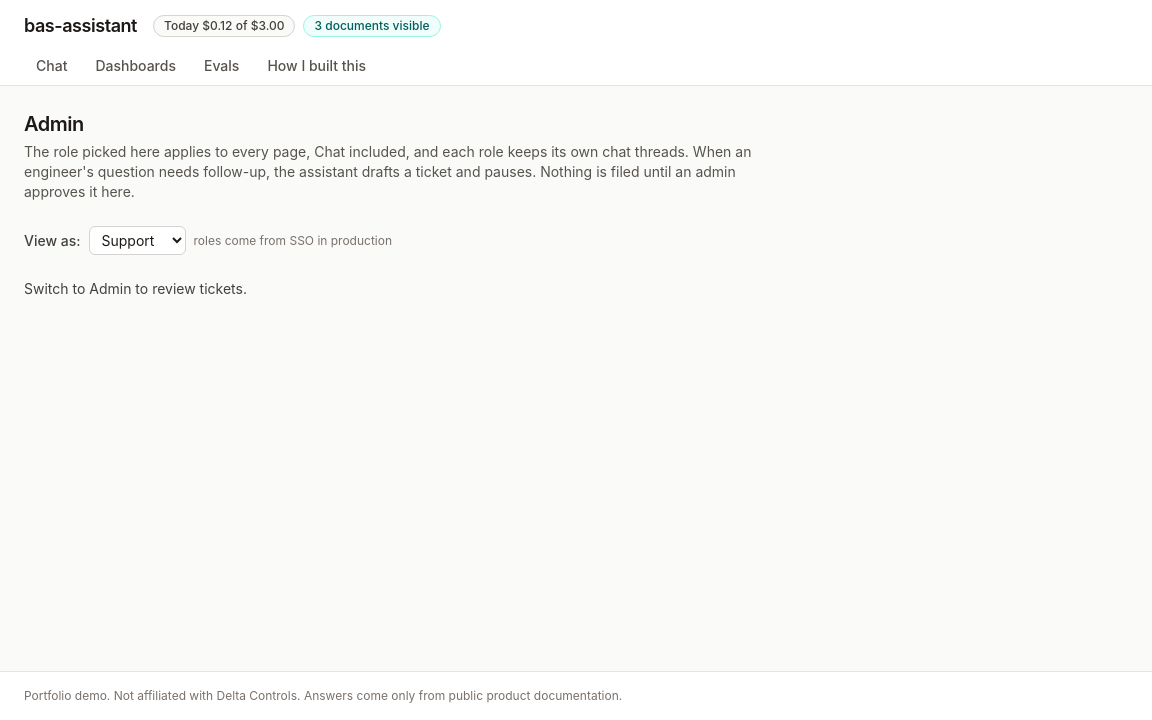
Test: a rejected token is cleared and the admin is asked again
The image size is (1152, 720).
Select "Admin" in the dropdown labelled "View as:" at (137, 240), box [88,226,186,255]
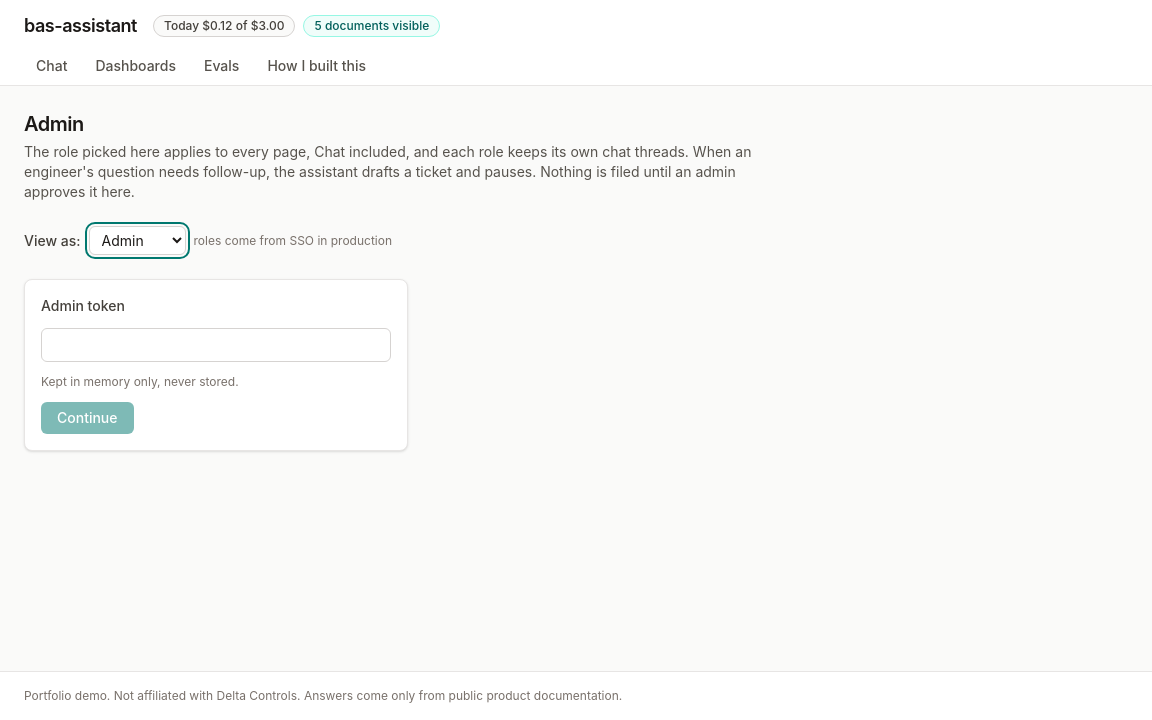
Type "wrong-token" into the password field labelled "Admin token" at (216, 345), box [41,328,391,362]
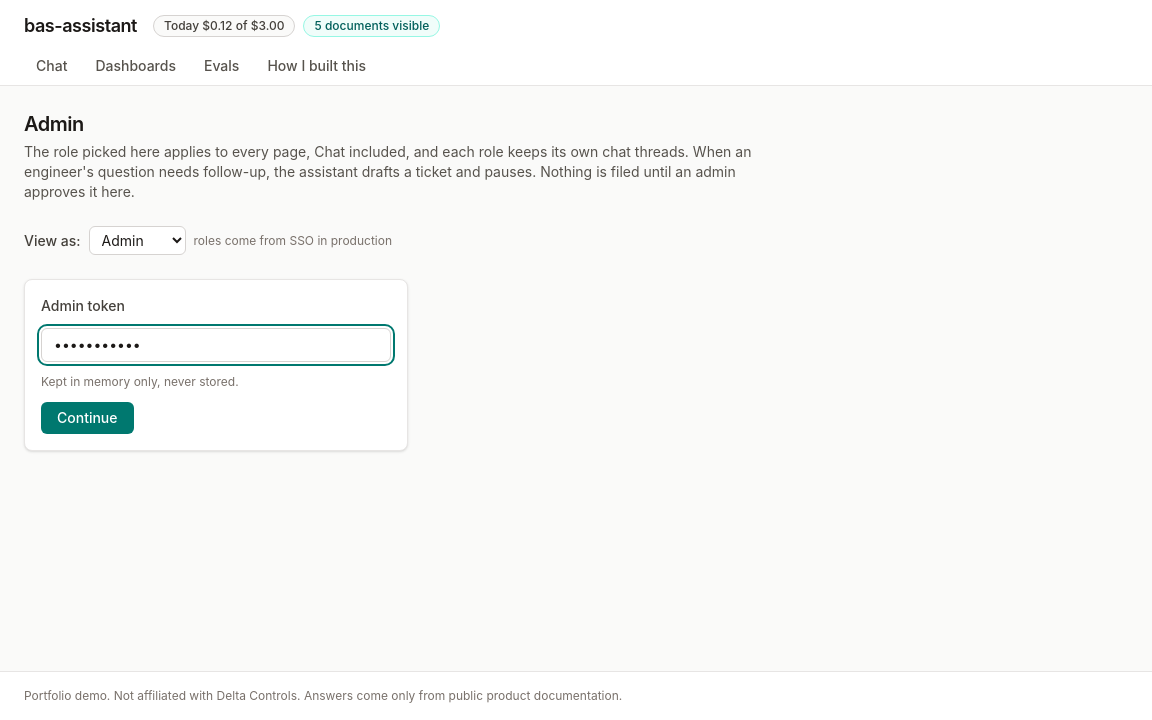
Click the button "Continue" at (87, 418), box [41,402,134,434]
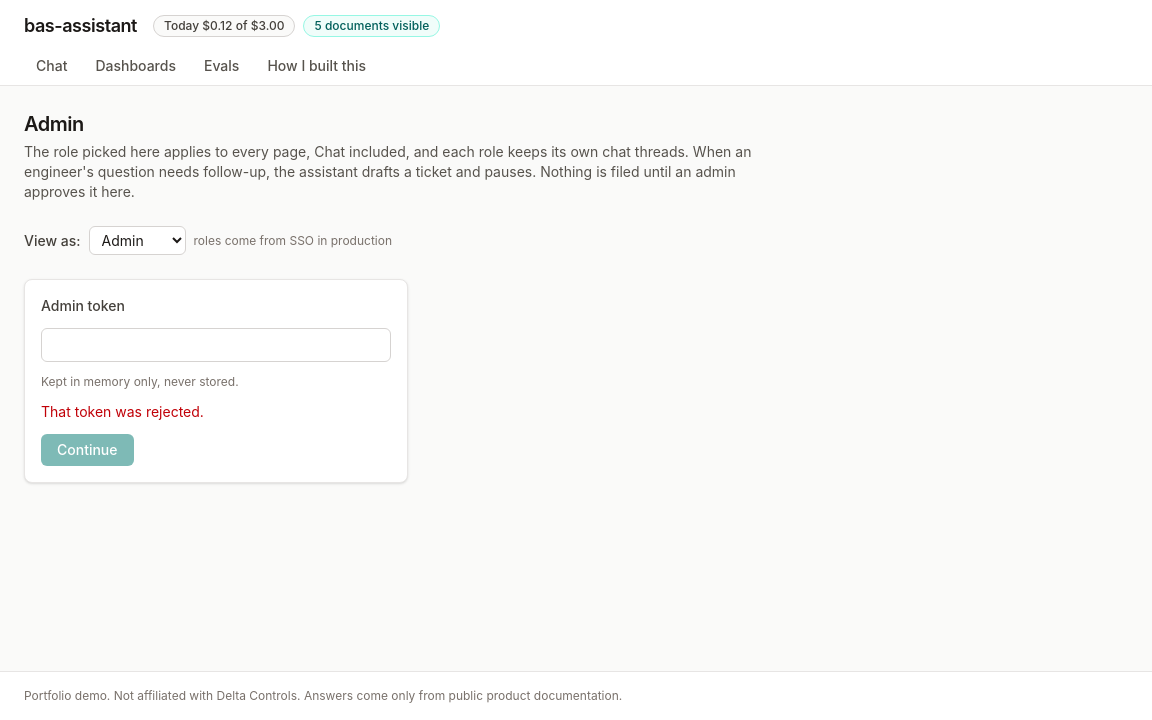
Check: the message reads "That token was rejected.", box [41,403,204,420]
Check: the password field labelled "Admin token" is empty, box [41,328,391,362]
